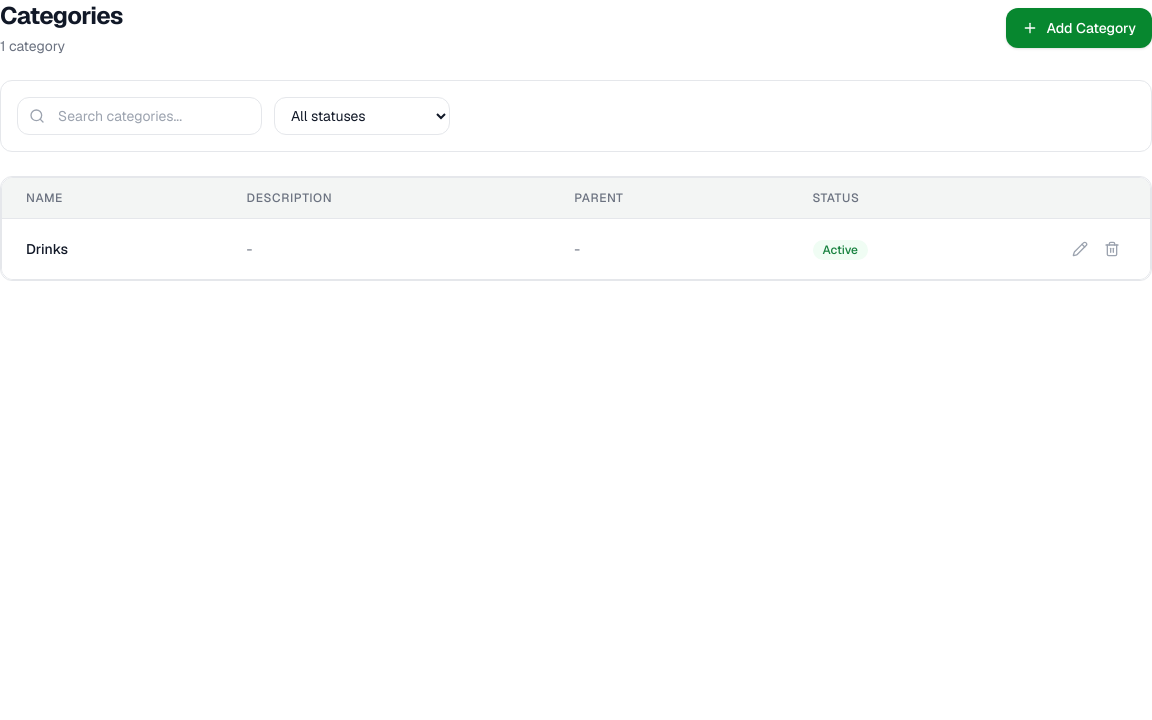
categories › creates a category with a parent and refreshes the list
Expected: the text "Drinks" is shown, x1=2 y1=218 x2=223 y2=279
Click the button "Add Category": [1079, 28] box x1=1006 y1=8 x2=1151 y2=48
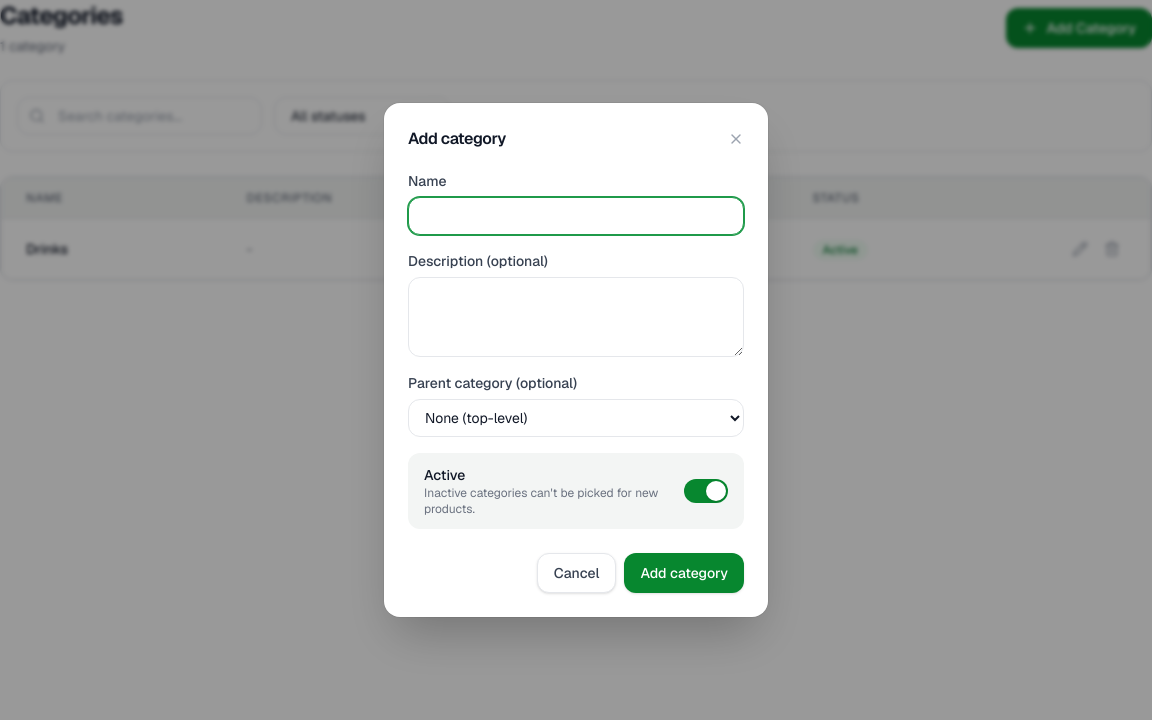
In the field labelled "Name": [576, 216] box x1=408 y1=197 x2=744 y2=235, type "  Soda "
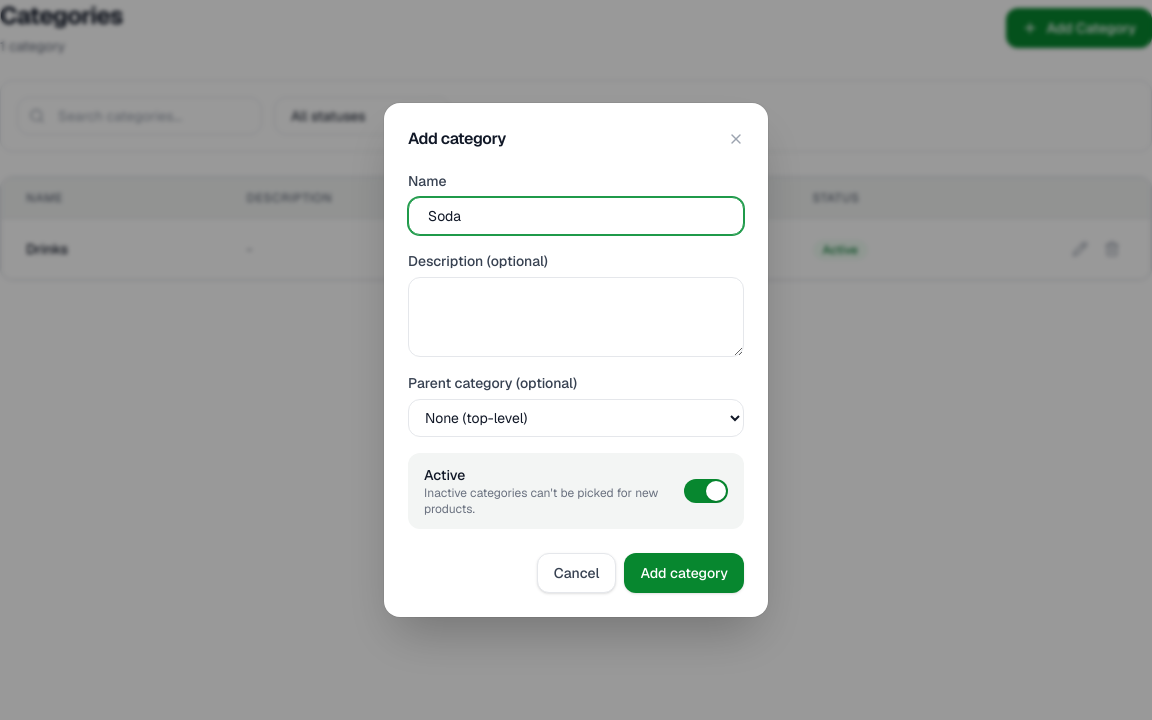
In the text box labelled "Description (optional)": [576, 317] box x1=408 y1=277 x2=744 y2=357, type "Fizzy"
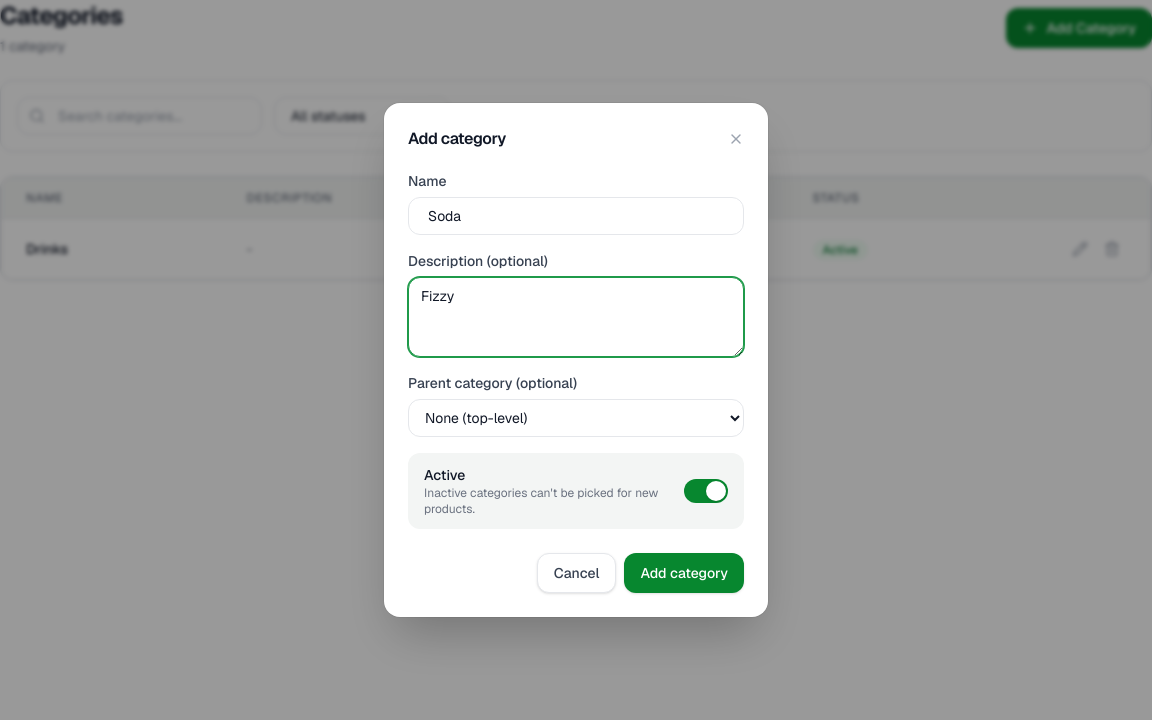
Select "Drinks" in the dropdown labelled "Parent category (optional)": [576, 418] box x1=408 y1=399 x2=744 y2=437
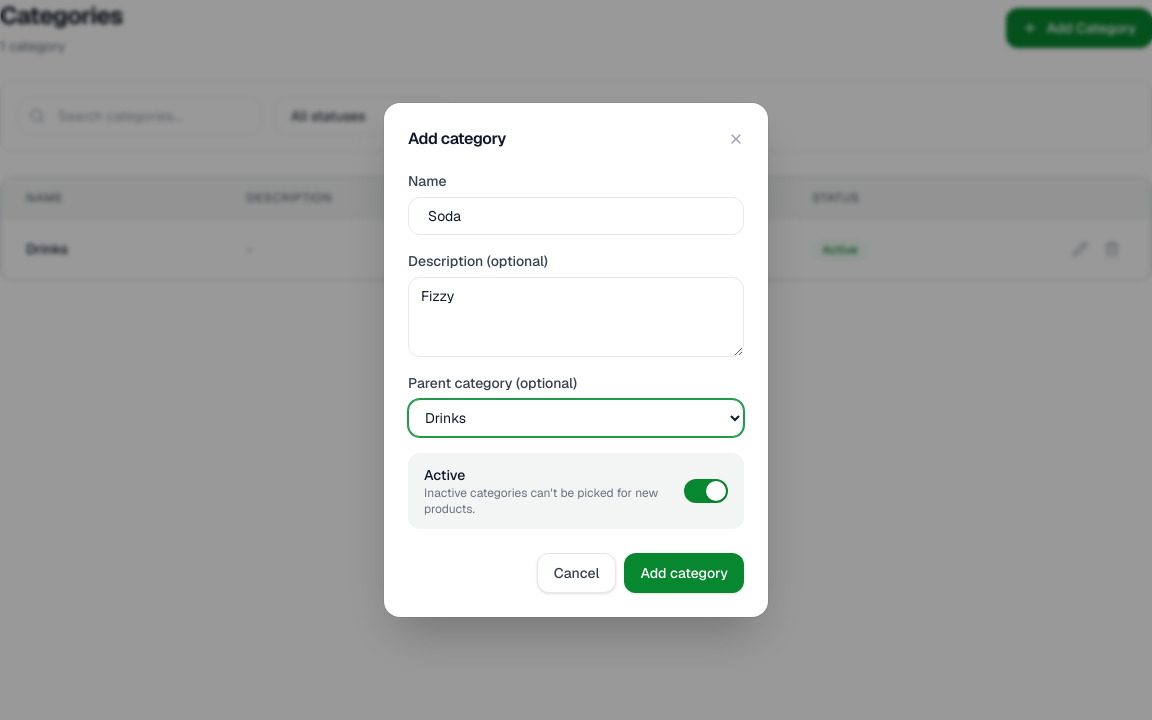
Click the button "Add category": [684, 573] box x1=624 y1=553 x2=744 y2=593
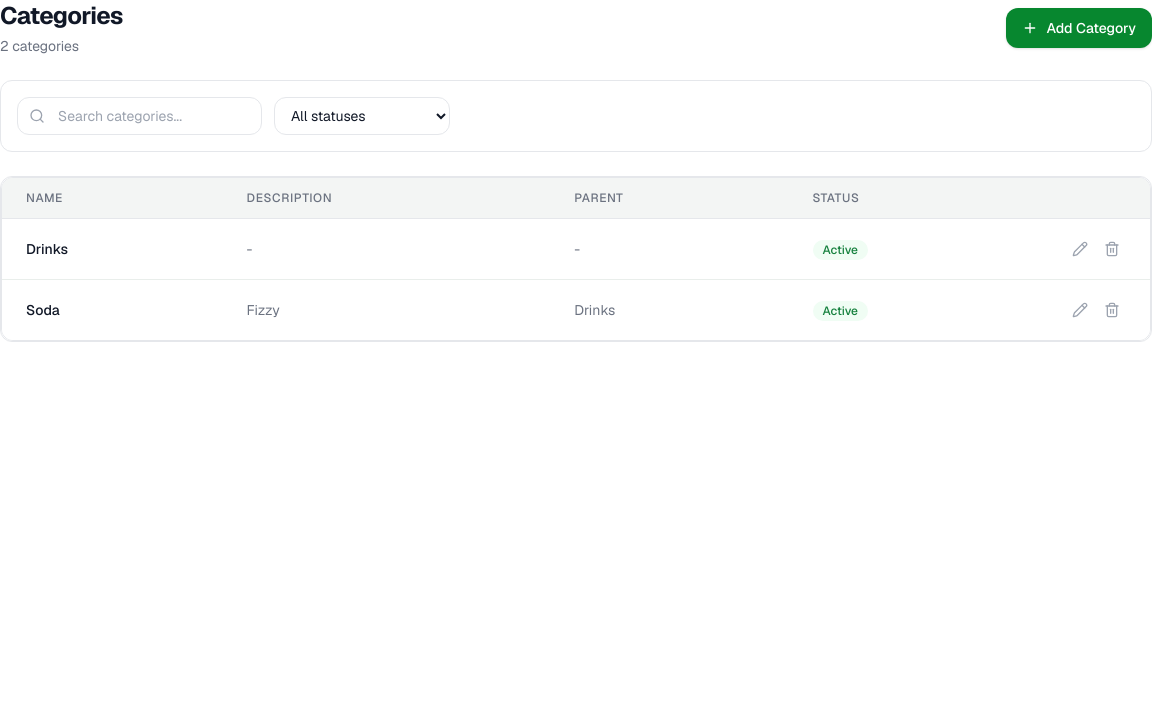
Result: the text "Soda" is shown at x1=2 y1=280 x2=223 y2=340
Result: the dialog is gone
